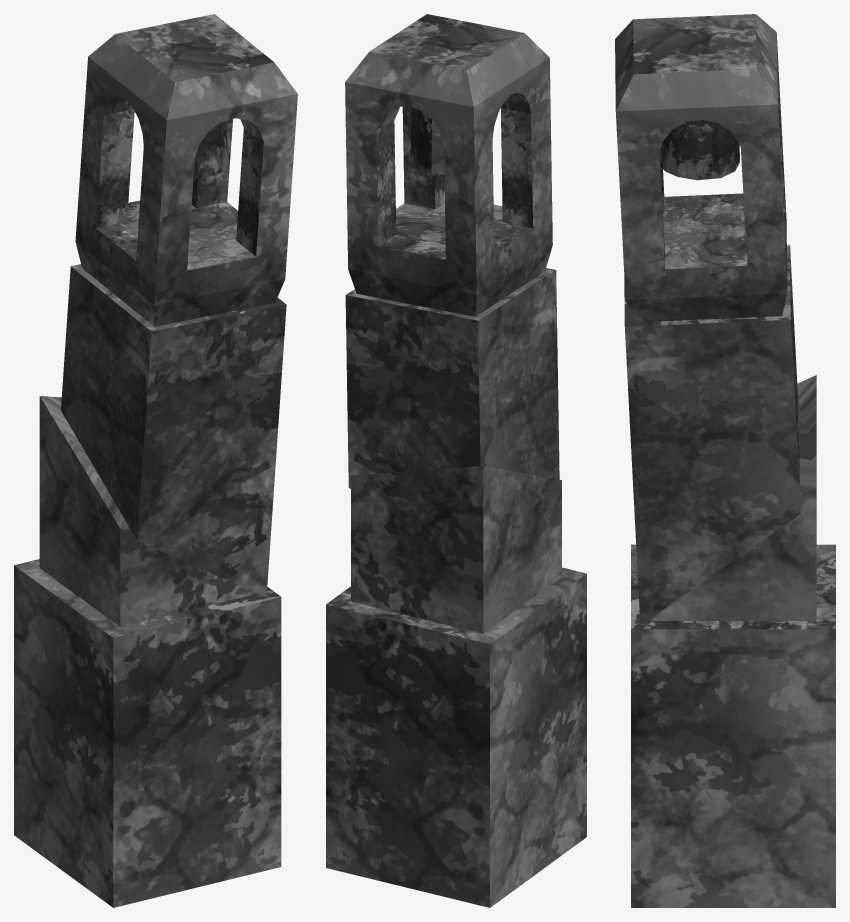
The model's file is TowerDestroyed2.fbx.
The picture shows the model from 3 angles, left to right: view 1: azimuth 30°, elevation 25°; view 2: azimuth 150°, elevation 25°; view 3: azimuth 270°, elevation 25°; orthographic projection. The views are drawn at different scales.
Visible parts, largest first — view 1: Dtower2; view 2: Dtower2; view 3: Dtower2.
Part boxes in pixels (box(x1,y1,x2,y2)): Dtower2: box(14, 14, 297, 907); Dtower2: box(326, 14, 586, 907); Dtower2: box(615, 14, 835, 907).
Bounding box in the file's own units: 654 × 2871 × 684.
